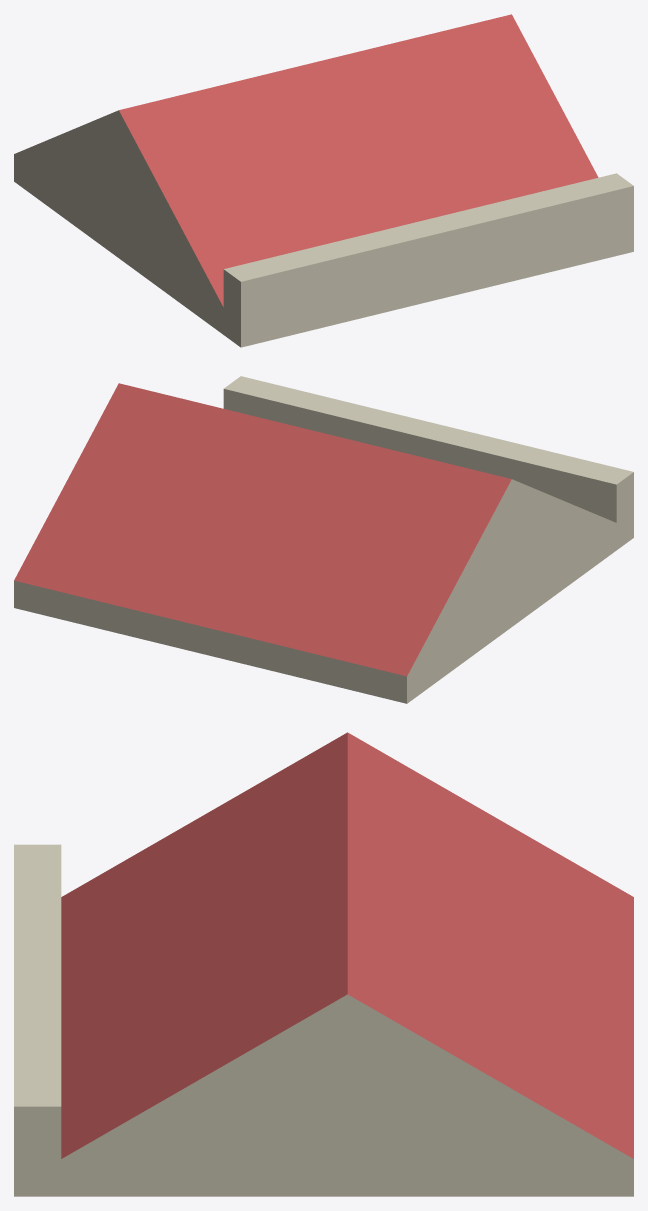
The model's file is Roof 19.FBX.
The picture shows the model from 3 angles, top to bottom: view 1: azimuth 30°, elevation 25°; view 2: azimuth 150°, elevation 25°; view 3: azimuth 270°, elevation 25°; orthographic projection. The views are drawn at different scales.
Visible parts, largest first — view 1: Group218; view 2: Group218; view 3: Group218.
Boxes of the visible parts, box(x1,y1,x2,y2) form: Group218: box(14, 14, 633, 347); Group218: box(14, 376, 633, 703); Group218: box(14, 732, 633, 1196).
Size of the model in its own units: 29.53 by 10.63 by 29.53.
